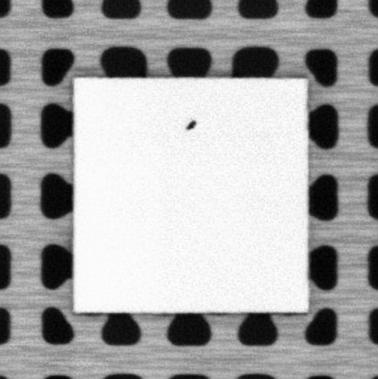DIE_INK: (183, 117, 199, 130)
